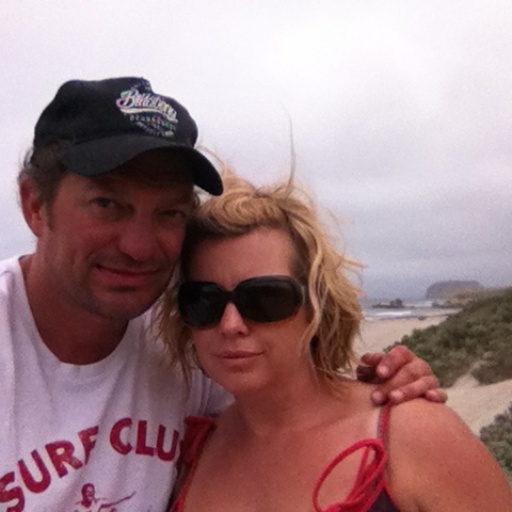hand: (368, 350, 450, 422)
